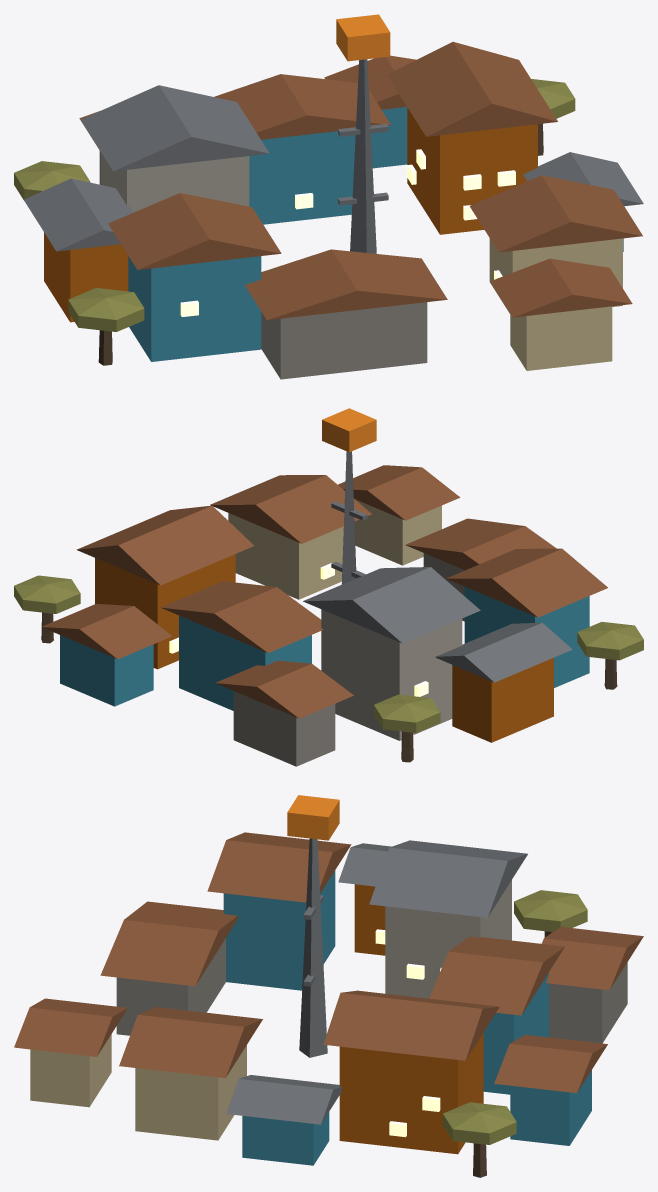
Rendered from overworld-settlement-african-town.glb.
3 renders of one model, top to bottom at view 1: azimuth 30°, elevation 25°; view 2: azimuth 150°, elevation 25°; view 3: azimuth 270°, elevation 25°, orthographic. The views are drawn at different scales.
Parts seen in each view (by area): view 1: settlement; view 2: settlement; view 3: settlement.
Boxes of the visible parts, <box> form: settlement: <box>14,14,643,379</box>; settlement: <box>14,408,643,766</box>; settlement: <box>14,795,643,1177</box>.
Size of the model in its own units: 0.5506 by 0.221 by 0.5134.
